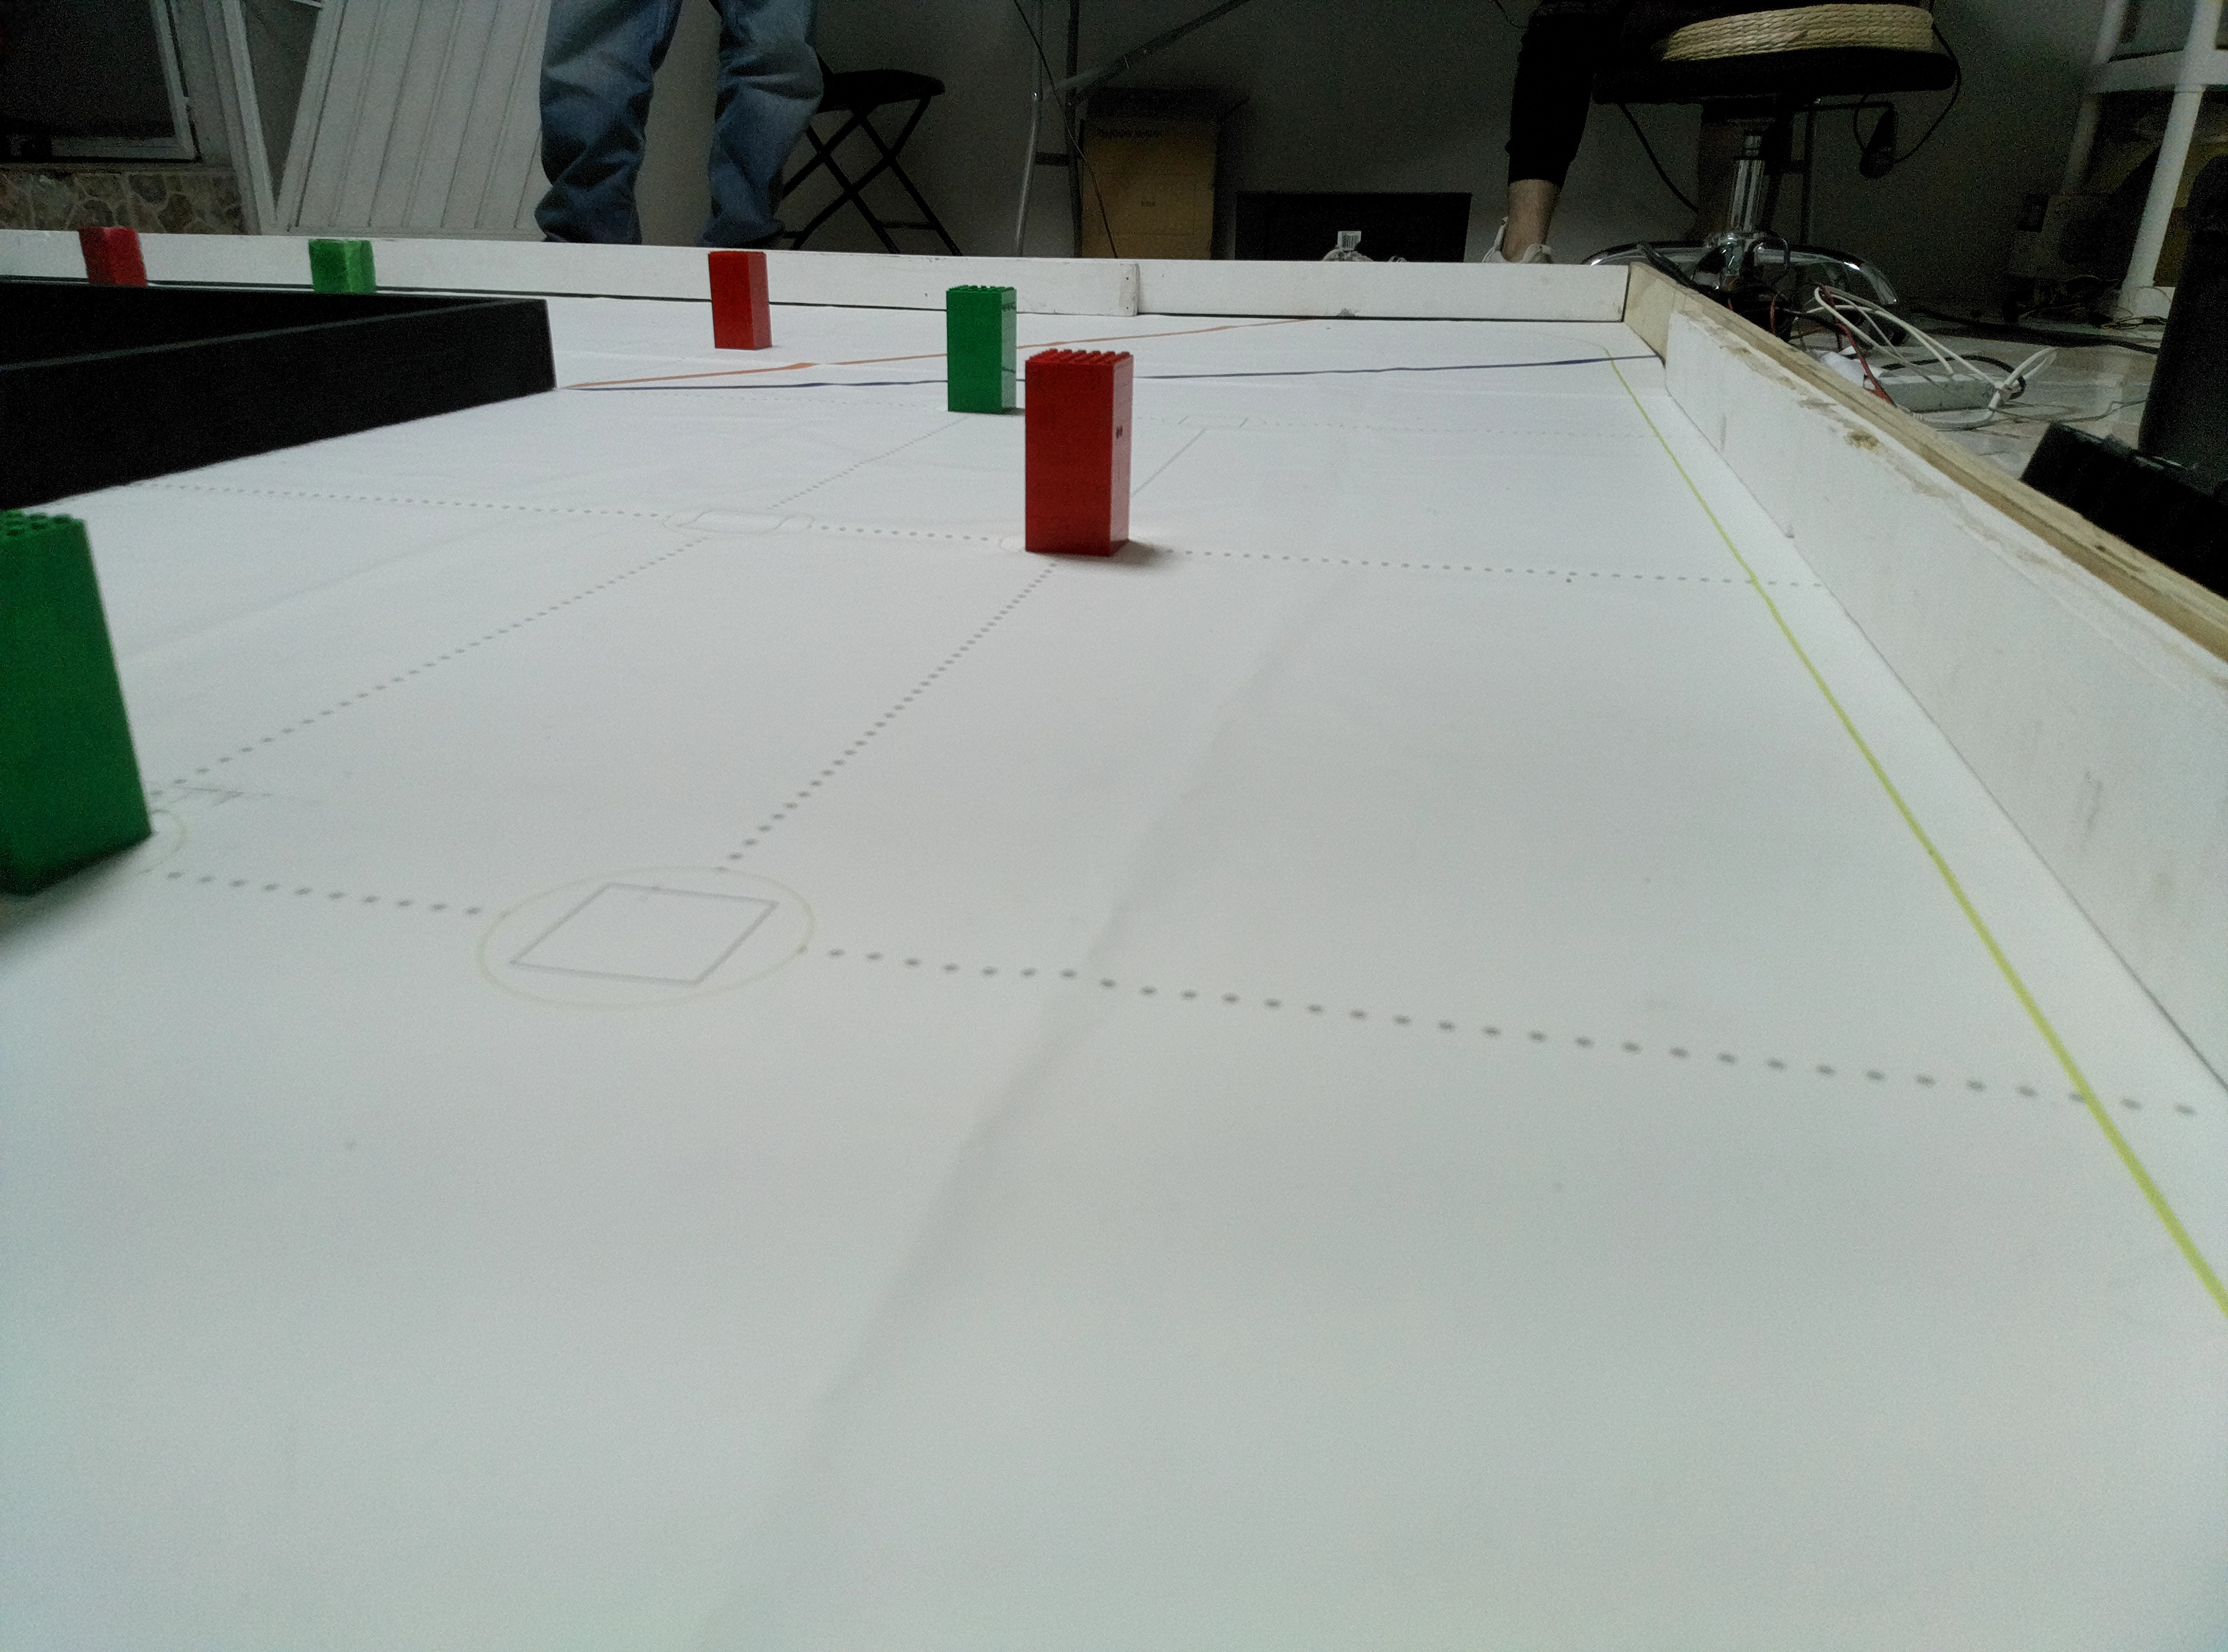greenbox: (0, 505, 160, 894), (944, 274, 1020, 410), (305, 227, 378, 290)
redbox: (1024, 345, 1135, 564), (703, 246, 779, 354), (75, 226, 158, 283)
